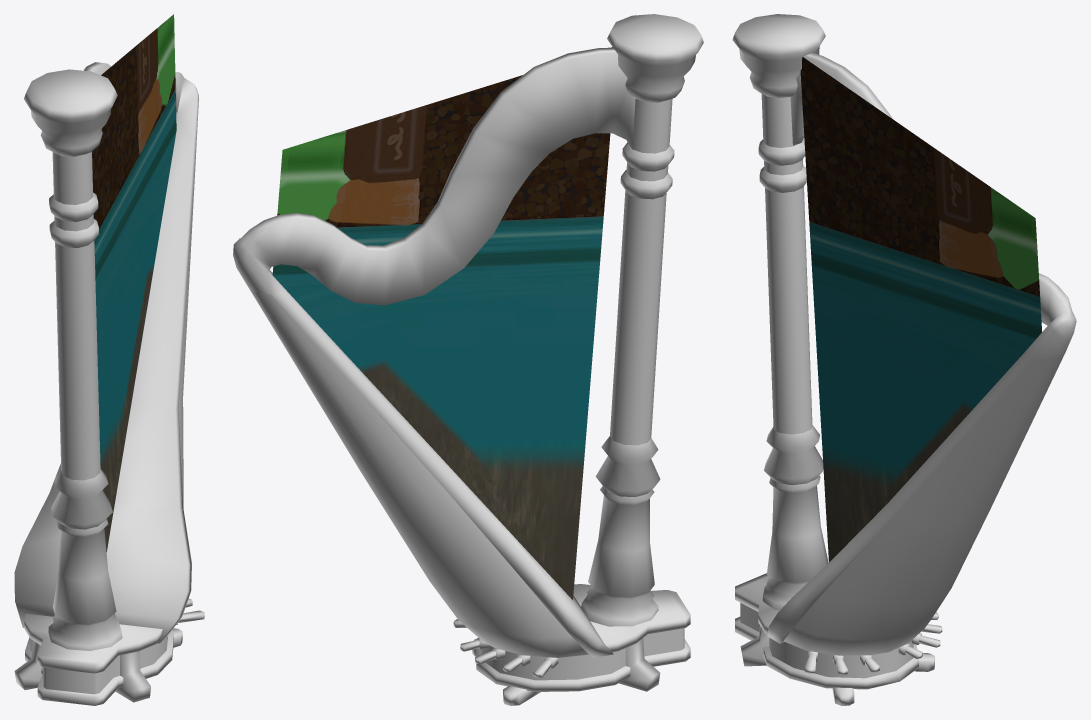
The model's file is arpa.fbx.
3 renders of one model, left to right at view 1: azimuth 30°, elevation 25°; view 2: azimuth 150°, elevation 25°; view 3: azimuth 270°, elevation 25°, orthographic. The views are drawn at different scales.
Parts seen in each view (by area): view 1: bodyFuchi__mReBody, gen_low__mBody; view 2: bodyFuchi__mReBody, gen_low__mBody; view 3: gen_low__mBody, bodyFuchi__mReBody.
Part boxes in pixels (box(x1,y1,x2,y2)): bodyFuchi__mReBody: box(14, 62, 204, 705); gen_low__mBody: box(92, 14, 176, 551); bodyFuchi__mReBody: box(233, 14, 703, 705); gen_low__mBody: box(272, 47, 612, 599); gen_low__mBody: box(800, 57, 1041, 562); bodyFuchi__mReBody: box(732, 14, 1076, 705).
Size of the model in its own units: 289 by 549 by 282.
